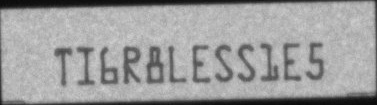1: (259, 42, 279, 82)
5: (305, 40, 325, 81)
6: (99, 47, 120, 86)
8: (145, 45, 164, 83)
E: (192, 42, 211, 83), (283, 40, 302, 80)
I: (77, 45, 94, 85)
L: (169, 44, 186, 82)
R: (123, 46, 142, 84)
S: (238, 43, 257, 82), (215, 43, 233, 81)
T: (53, 47, 73, 86)
